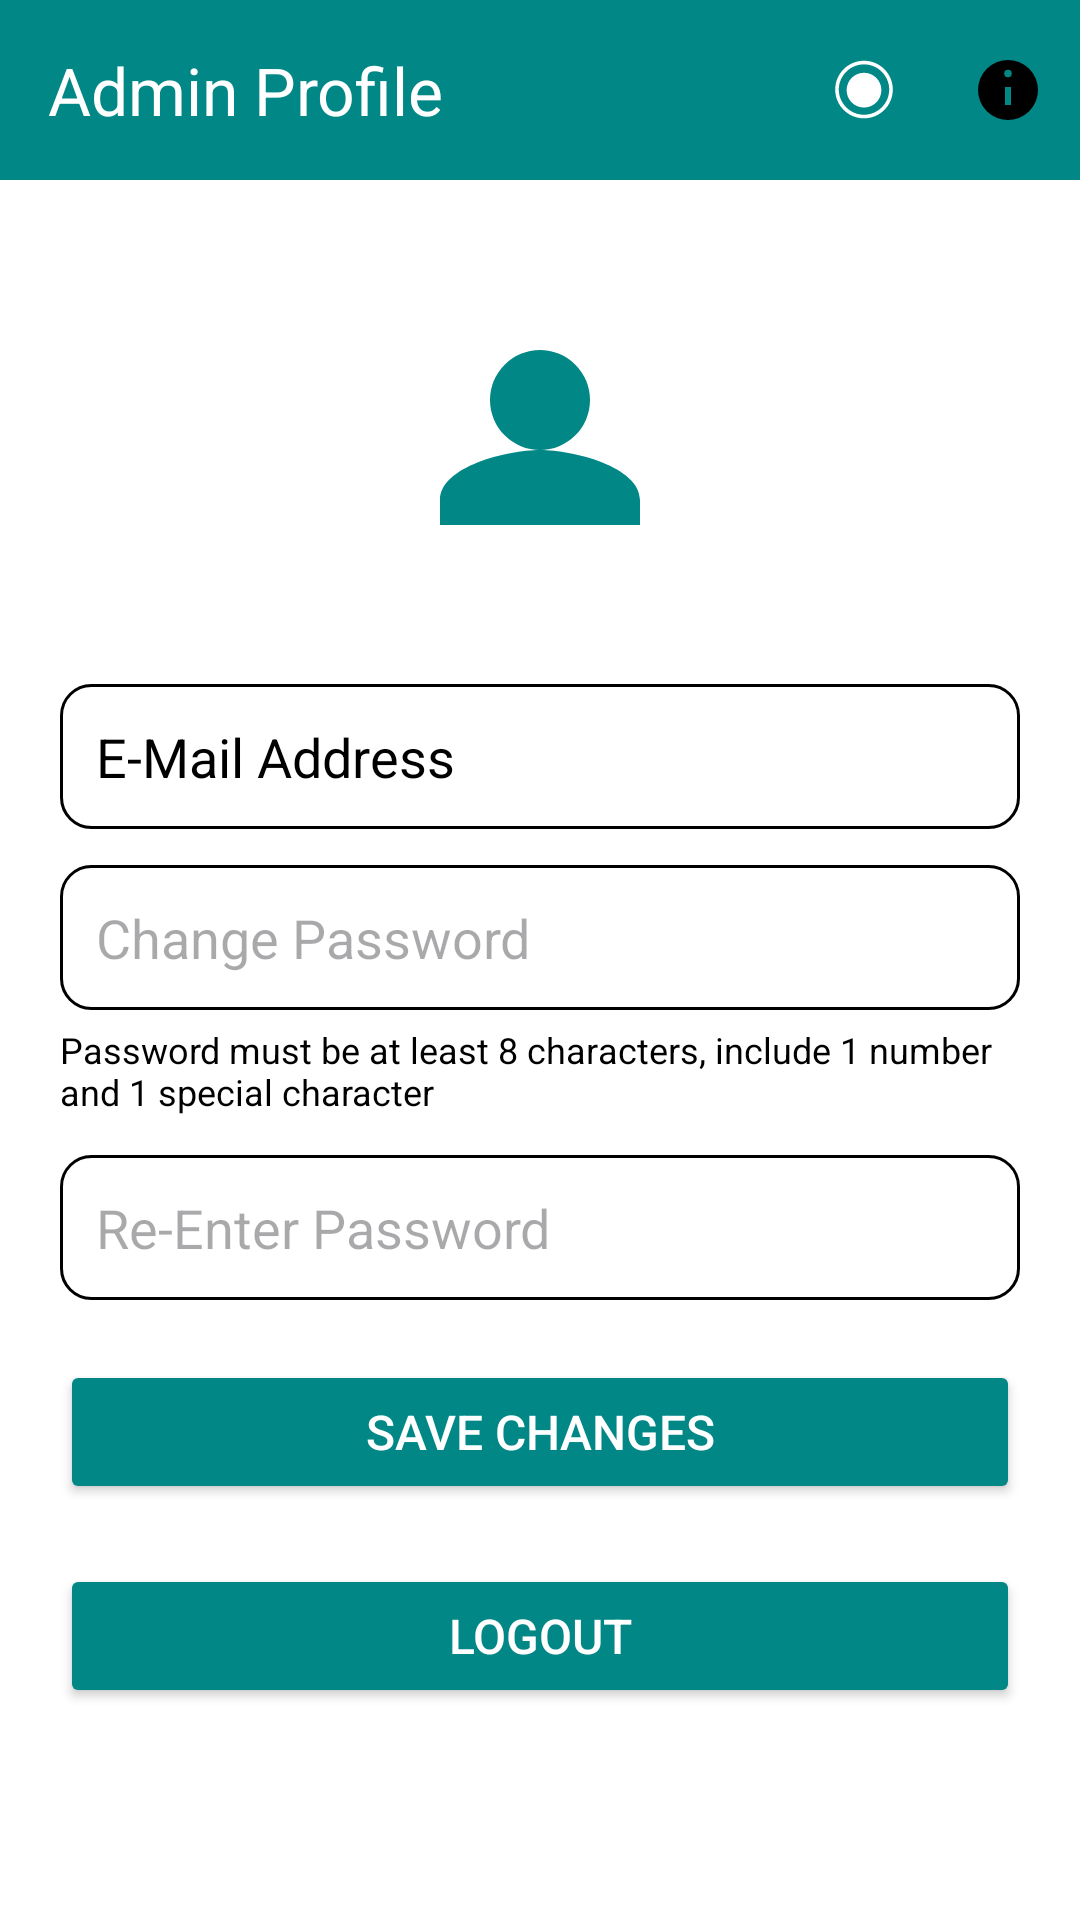

Named icons in this screenshot (1080x1920) and their centers, (x,y):
profile: (540,437)
